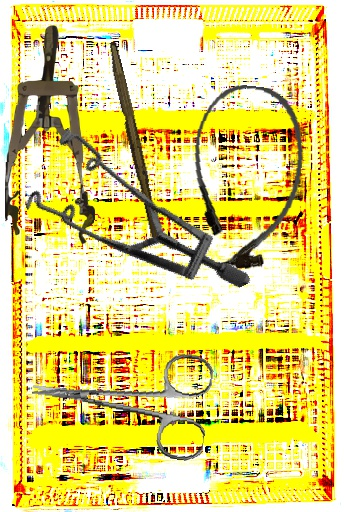Cannula: (181, 80, 311, 274)
Iris Scissors: (25, 333, 216, 463)
Scalpel Handle: (102, 41, 166, 243)
Speculum: (2, 85, 252, 358), (4, 24, 98, 244)
